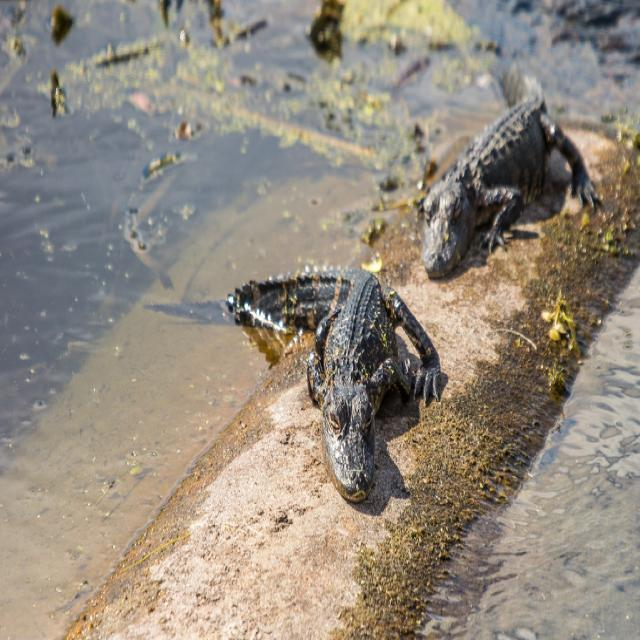crocodile: (119, 252, 467, 521), (400, 37, 623, 289)
